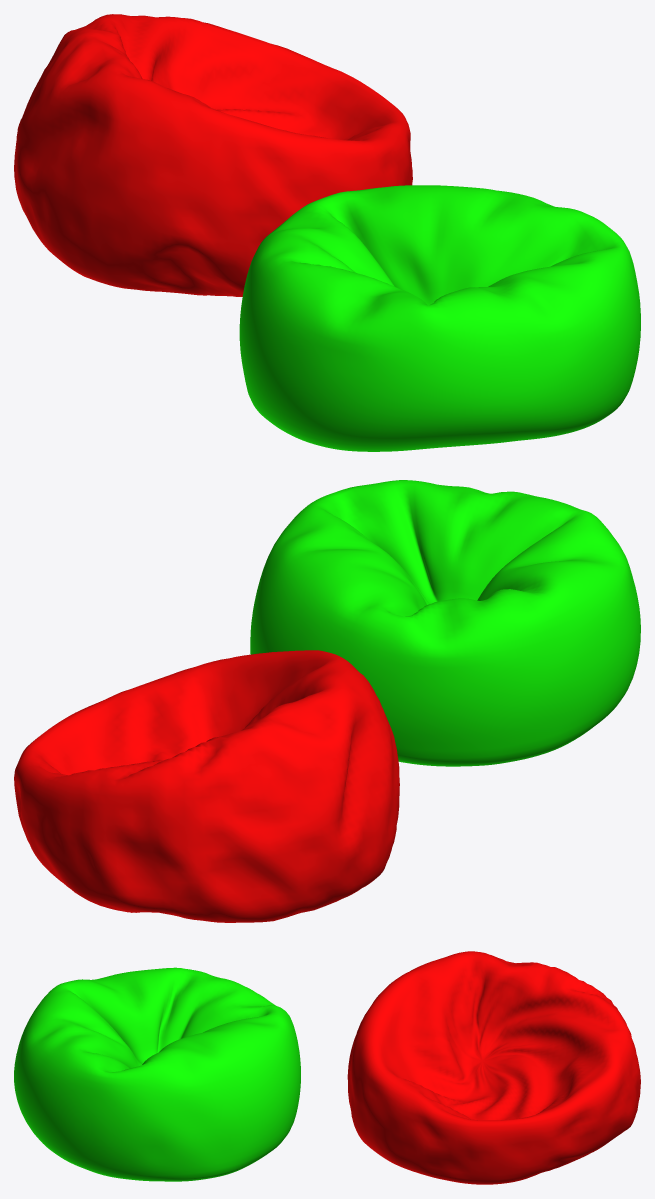
The picture shows the model from 3 angles, top to bottom: view 1: azimuth 30°, elevation 25°; view 2: azimuth 150°, elevation 25°; view 3: azimuth 270°, elevation 25°; orthographic projection. The views are drawn at different scales.
Visible parts, largest first — view 1: bean_bag2_0, bean_bag_1; view 2: bean_bag_1, bean_bag2_0; view 3: bean_bag_1, bean_bag2_0.
Boxes of the visible parts, x1,y1,x2,y2 form: bean_bag2_0: (239,185,640,451); bean_bag_1: (14,14,412,296); bean_bag_1: (14,650,399,922); bean_bag2_0: (250,480,640,766); bean_bag_1: (347,951,640,1184); bean_bag2_0: (14,967,300,1181).
Size of the model in its own units: 2.06 by 1.12 by 4.36.
